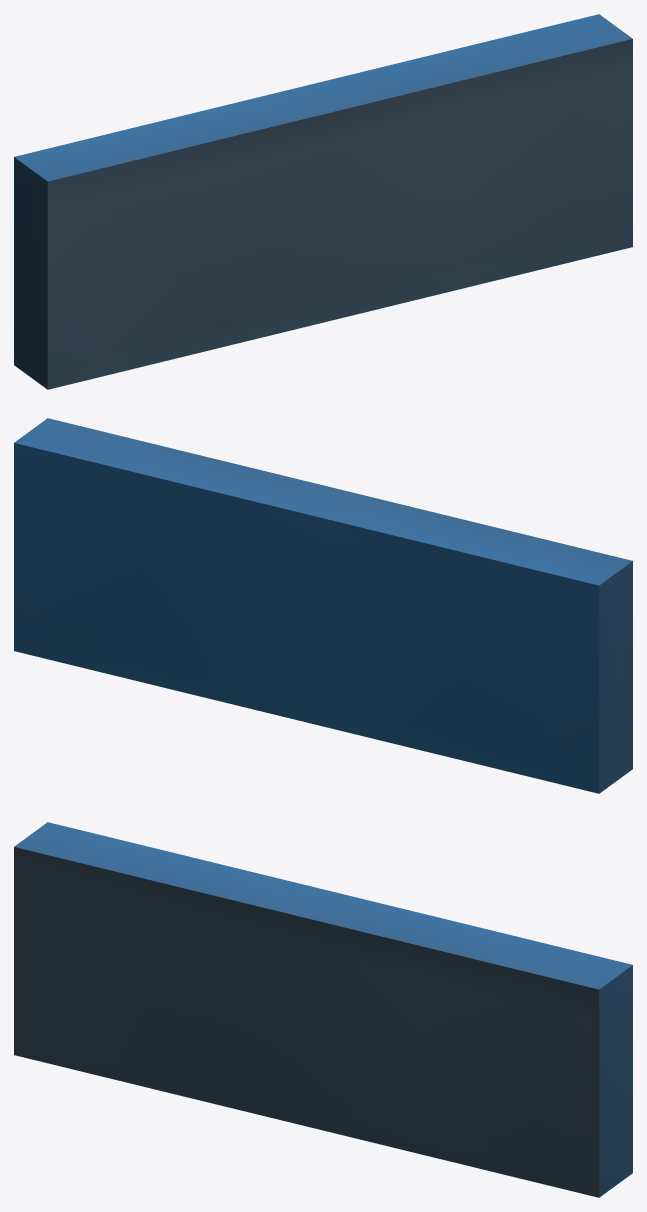
File: FloatingWall.fbx
The picture shows the model from 3 angles, top to bottom: view 1: azimuth 30°, elevation 25°; view 2: azimuth 150°, elevation 25°; view 3: azimuth 330°, elevation 25°; orthographic projection.
Parts seen in each view (by area): view 1: Room.219; view 2: Room.219; view 3: Room.219.
Part boxes in pixels (x1=…): Room.219: x1=14, y1=14, x2=632, y2=389; Room.219: x1=14, y1=418, x2=632, y2=793; Room.219: x1=14, y1=822, x2=632, y2=1197.
Size of the model in its own units: 1000 by 350 by 100.
